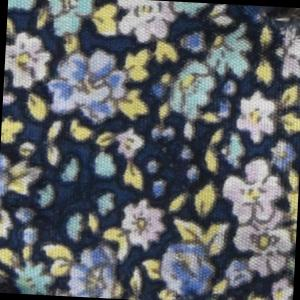Damage: (252, 6, 300, 52)
